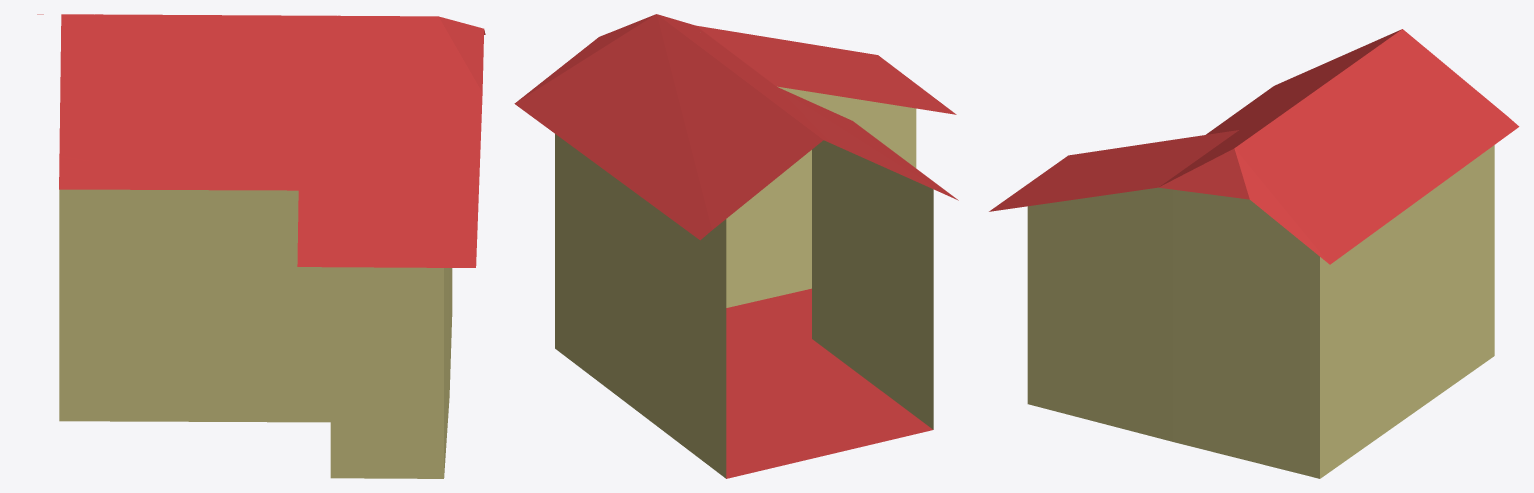
The picture shows the model from 3 angles, left to right: view 1: azimuth 30°, elevation 25°; view 2: azimuth 150°, elevation 25°; view 3: azimuth 270°, elevation 25°; orthographic projection. The views are drawn at different scales.
Visible parts, largest first — view 1: group_3, group_6; view 2: group_6, group_3, group_7, group_5; view 3: group_6, group_3, group_5.
Part boxes in pixels (x1,y1,x2,y2): group_3: (37,14,485,267); group_6: (59,189,452,478); group_6: (555,94,933,478); group_3: (514,14,958,240); group_7: (726,288,932,478); group_5: (517,105,724,239); group_6: (1027,145,1494,478); group_3: (989,29,1519,264); group_5: (1334,106,1516,260).
Size of the model in its own units: 12.06 by 13.86 by 8.75.
